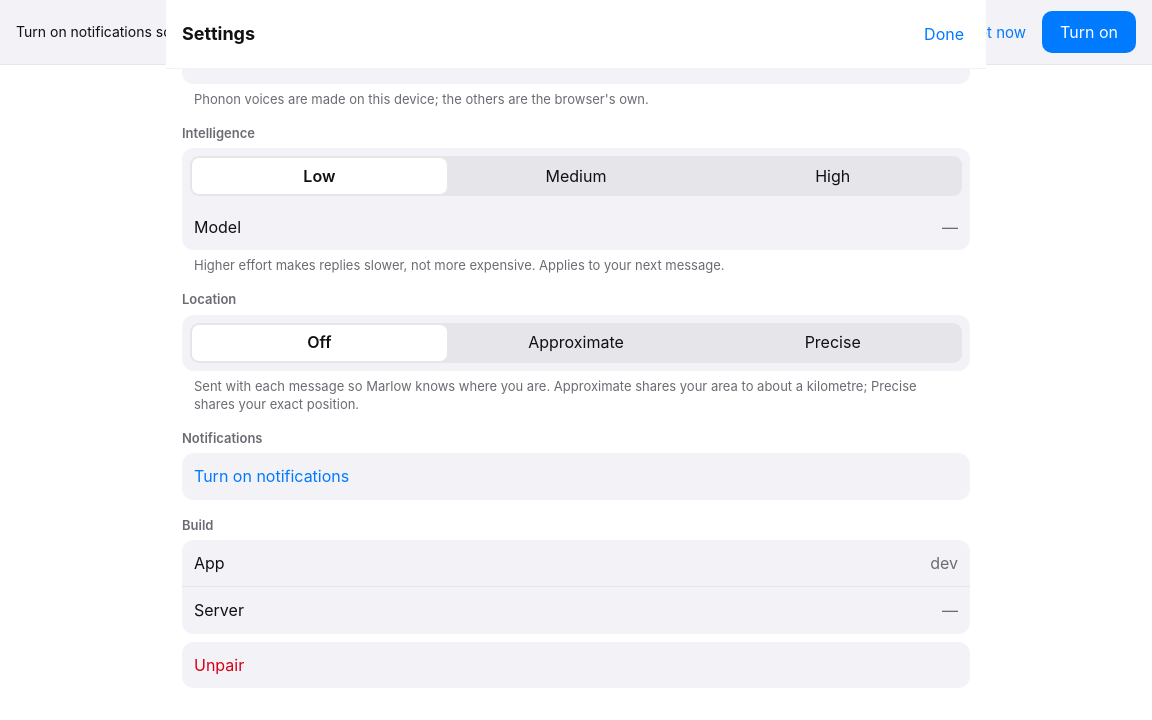
Test: WEB-9 notifications prompt › turning them on in Settings clears the prompt too
(page scrolled)
Expected: the element with test id "notify-prompt" is shown, [0,0,1151,65]
Click the button "Turn on notifications". click: x=272, y=476
box: [182,453,970,500]
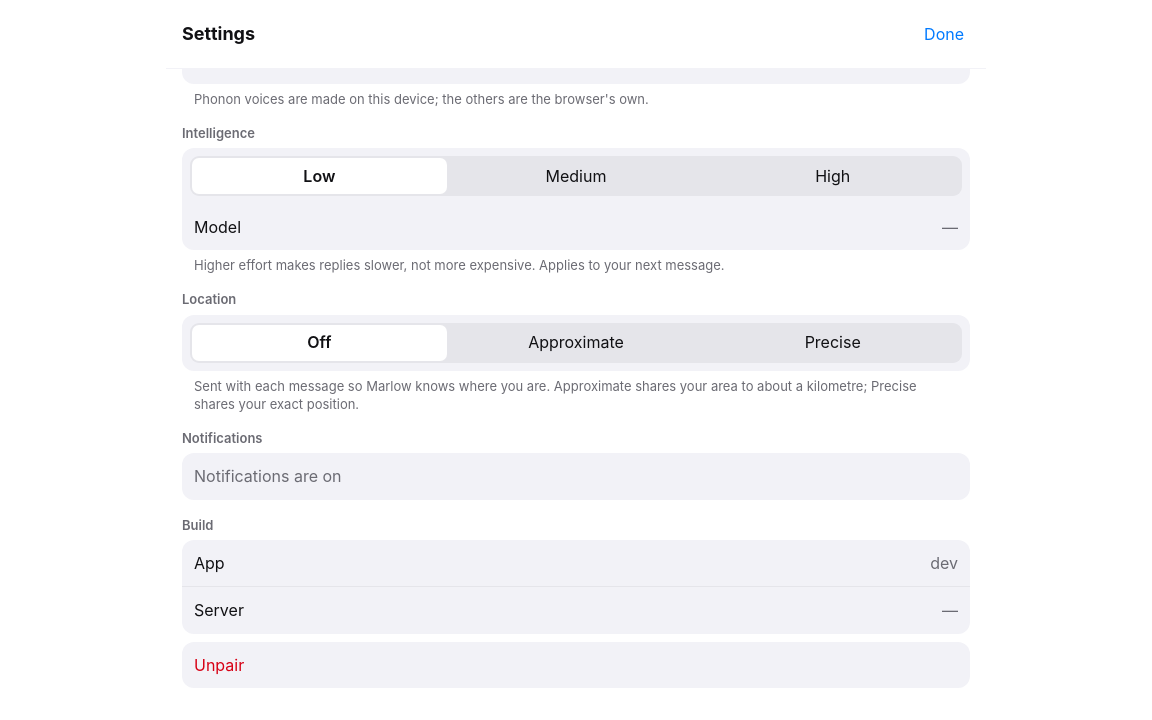
Expected: the element with test id "notify-prompt" is gone
Expected: the button "Notifications are on" is shown, [182,453,970,500]
